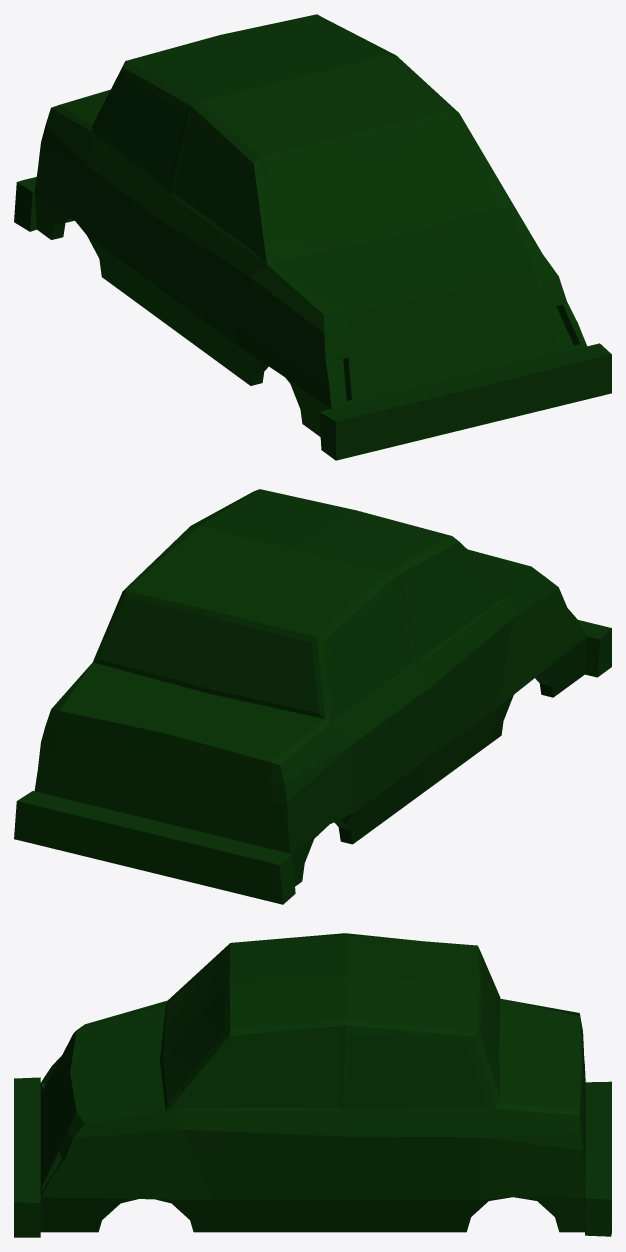
The model's file is car frame2.fbx.
The picture shows the model from 3 angles, top to bottom: view 1: azimuth 30°, elevation 25°; view 2: azimuth 150°, elevation 25°; view 3: azimuth 270°, elevation 25°; orthographic projection. The views are drawn at different scales.
Visible parts, largest first — view 1: Cube; view 2: Cube; view 3: Cube.
Boxes of the visible parts, left/top/right/bottom form: Cube: left=14, top=14, right=611, bottom=460; Cube: left=14, top=489, right=611, bottom=904; Cube: left=14, top=933, right=611, bottom=1237.
Size of the model in its own units: 224 by 167 by 450.
